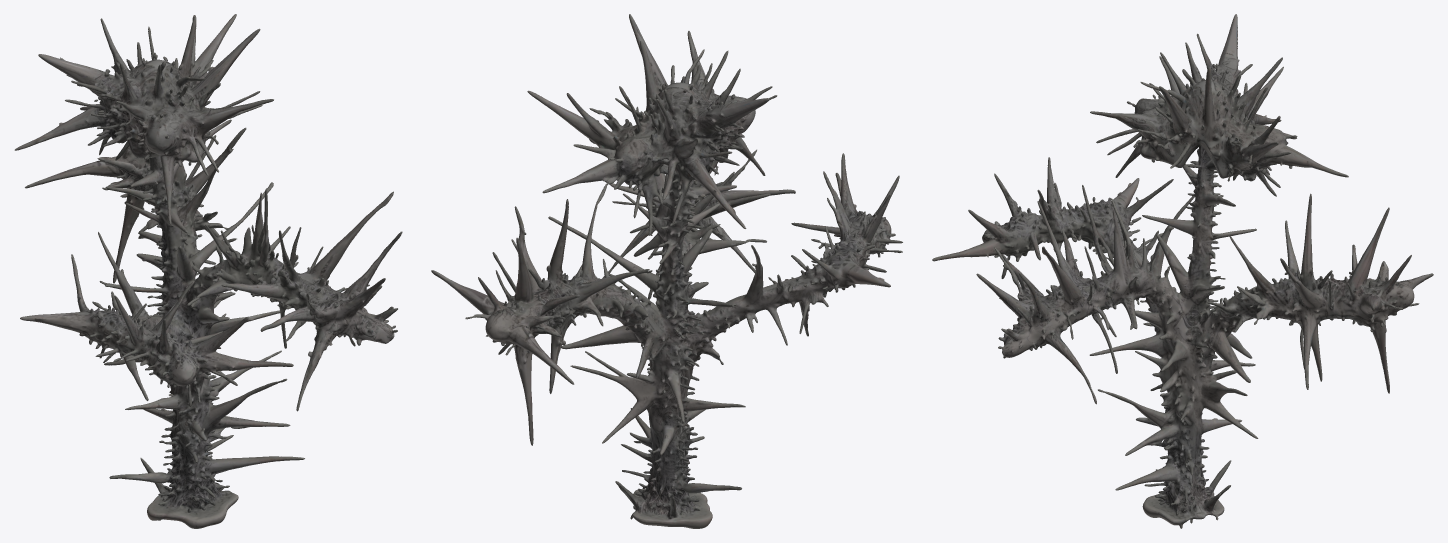
The model's file is sustainability-negative.glb.
The picture shows the model from 3 angles, left to right: view 1: azimuth 30°, elevation 25°; view 2: azimuth 150°, elevation 25°; view 3: azimuth 270°, elevation 25°; orthographic projection. The views are drawn at different scales.
Visible parts, largest first — view 1: tripo_node_ae275a76-5160-4339-ac5d-5ecd83430bc3; view 2: tripo_node_ae275a76-5160-4339-ac5d-5ecd83430bc3; view 3: tripo_node_ae275a76-5160-4339-ac5d-5ecd83430bc3.
Part boxes in pixels (x1=…): tripo_node_ae275a76-5160-4339-ac5d-5ecd83430bc3: x1=14, y1=14, x2=402, y2=528; tripo_node_ae275a76-5160-4339-ac5d-5ecd83430bc3: x1=431, y1=14, x2=902, y2=528; tripo_node_ae275a76-5160-4339-ac5d-5ecd83430bc3: x1=932, y1=14, x2=1433, y2=528.
Bounding box in the file's own units: 0.7283 × 1 × 0.9986.
1 material, 1 textured.
